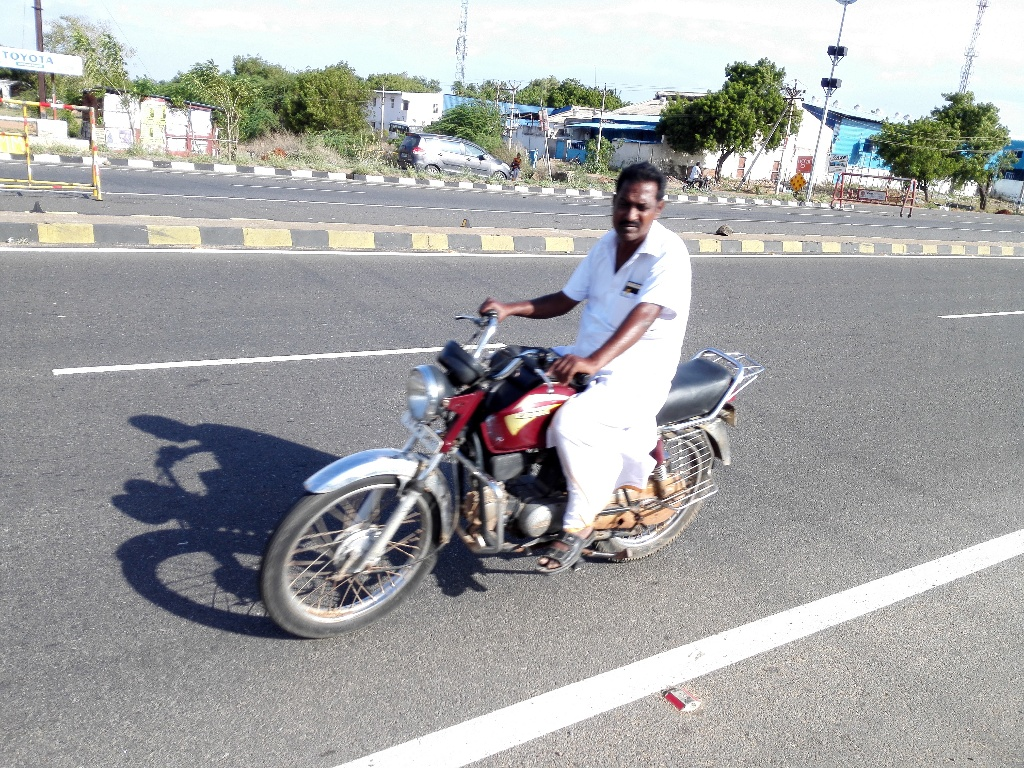biker: (223, 120, 792, 662)
nohelmet: (600, 150, 676, 261)
